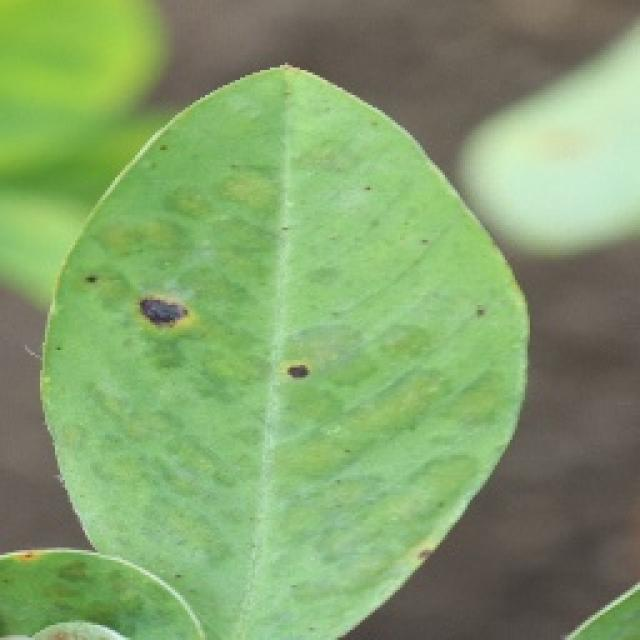Yellowish: (73, 241, 241, 382), (344, 162, 456, 284), (260, 326, 358, 423), (463, 286, 542, 364)
